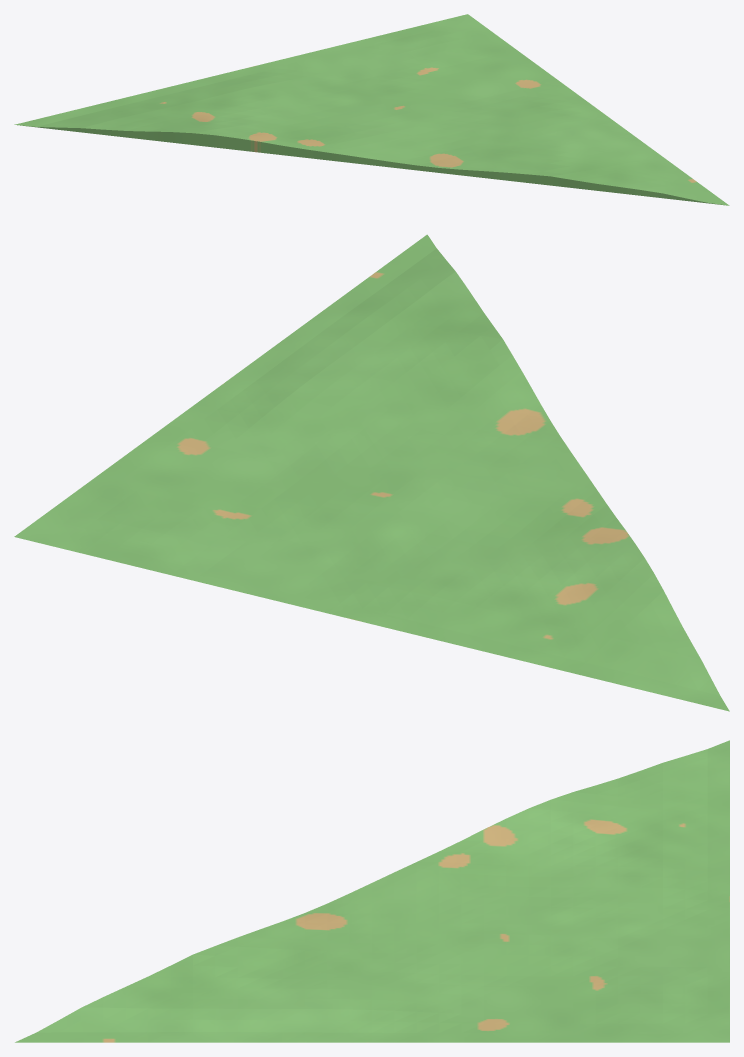
The model's file is Grass_Flat_10_SE.obj.
3 renders of one model, top to bottom at view 1: azimuth 30°, elevation 25°; view 2: azimuth 150°, elevation 25°; view 3: azimuth 270°, elevation 25°, orthographic. The views are drawn at different scales.
Size of the model in its own units: 10 by 0.2592 by 10.
1 material, 1 textured.
